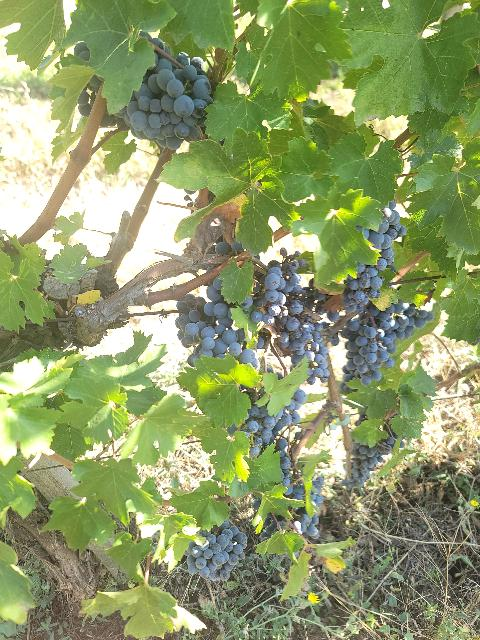grapes: (124, 50, 212, 151), (342, 201, 406, 311), (175, 294, 260, 369), (262, 248, 316, 362), (341, 312, 394, 385), (185, 520, 248, 581), (341, 432, 395, 489)
